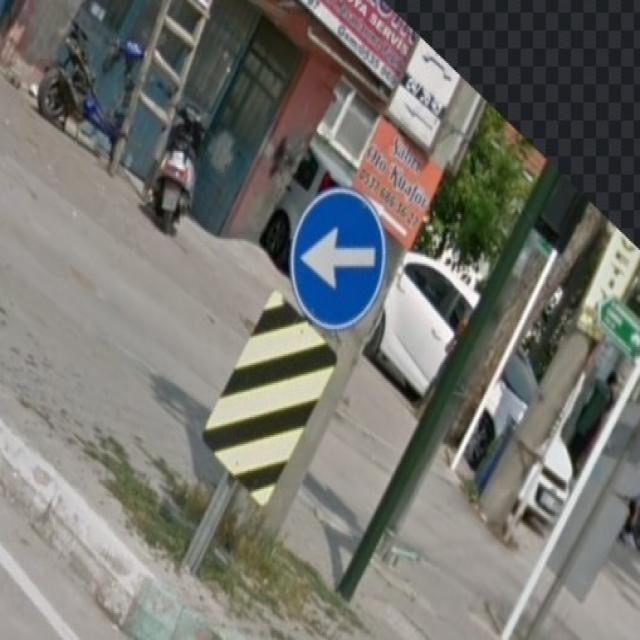Turn Left: (294, 192, 389, 328)
